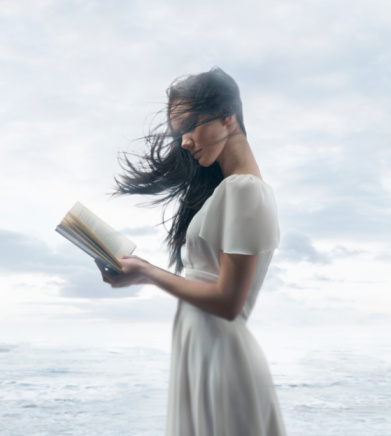em pe: (115, 42, 278, 435)
